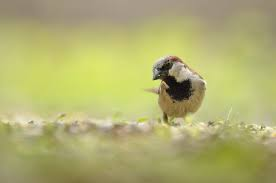hsparrow: (144, 50, 209, 129)
